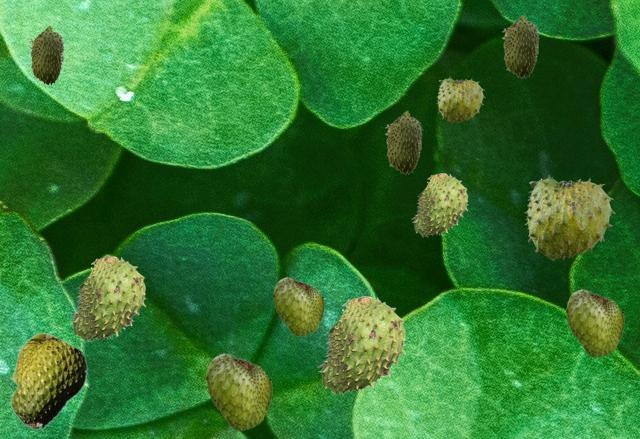guyabano: (317, 296, 405, 394), (524, 174, 614, 259), (9, 332, 87, 430), (69, 256, 145, 341), (206, 352, 271, 429), (566, 288, 623, 356), (411, 173, 467, 236), (273, 276, 323, 335), (502, 14, 539, 77), (385, 110, 422, 173), (436, 76, 484, 122), (29, 25, 64, 84)
